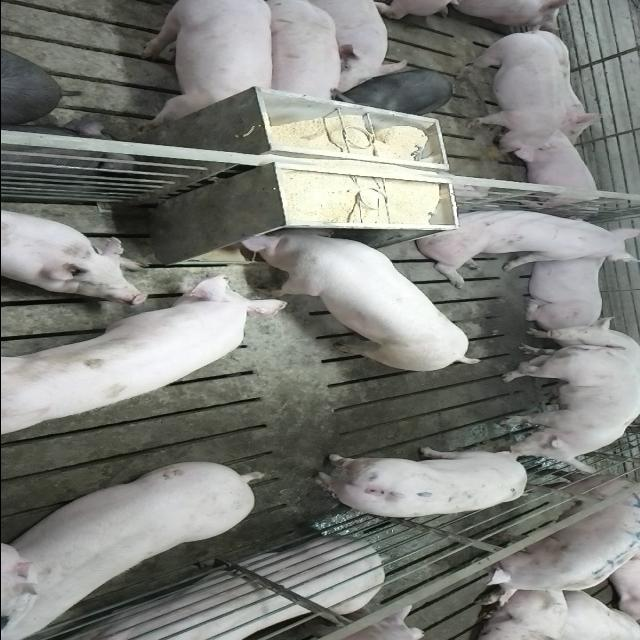Feeding: (0, 272, 261, 442), (234, 219, 481, 369)
Sitting: (494, 343, 638, 479), (412, 203, 636, 284)
Standing: (5, 456, 267, 635), (451, 479, 640, 608), (129, 1, 271, 131), (306, 444, 531, 520), (456, 27, 561, 153), (291, 3, 405, 98), (267, 0, 339, 110)
Sternal_lying: (54, 540, 420, 640), (0, 203, 147, 303), (508, 132, 606, 210), (518, 252, 608, 330)
